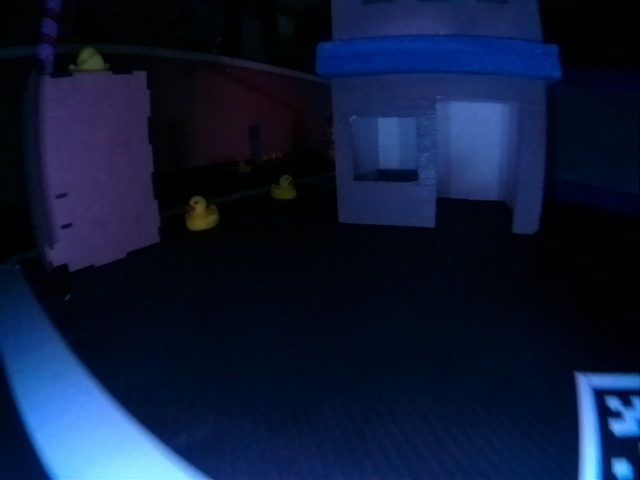Duckie: (187, 196, 219, 230), (70, 48, 106, 73), (272, 176, 295, 200)
QR code: (576, 372, 639, 478)
